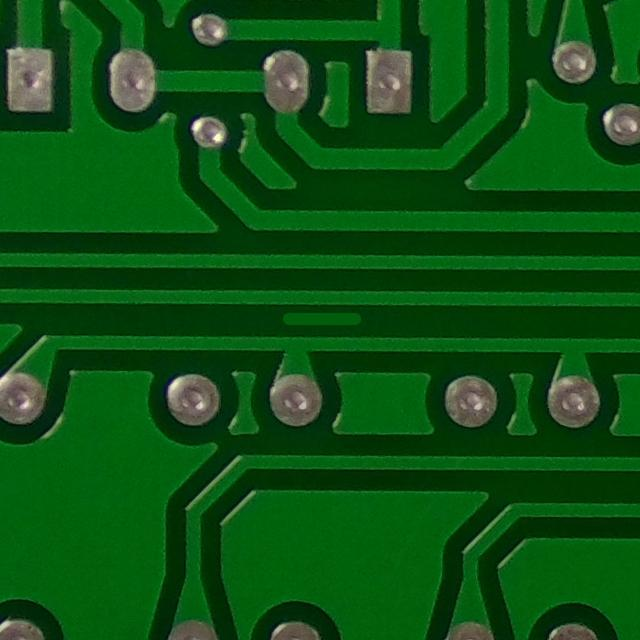spurious_copper: (271, 296, 369, 345)
